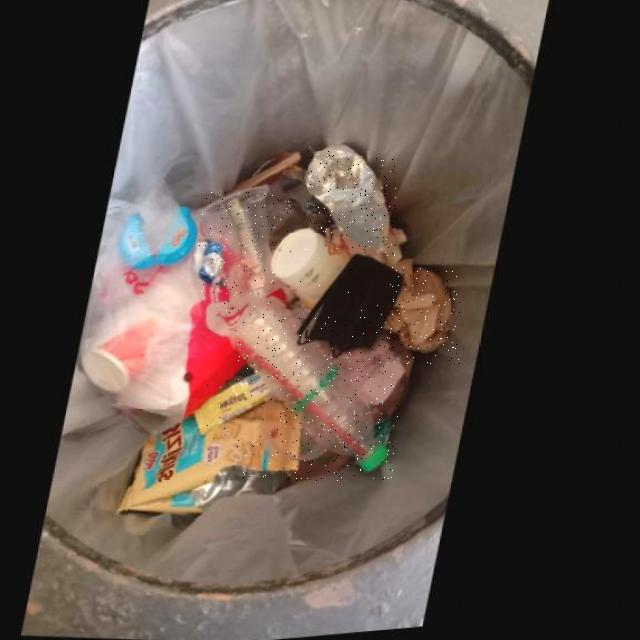paper: (276, 234, 358, 317), (391, 268, 460, 364)
plastic: (235, 304, 399, 481), (201, 191, 291, 313), (309, 151, 396, 259)
wrapper: (128, 409, 310, 520), (202, 381, 280, 440), (199, 244, 230, 291)
